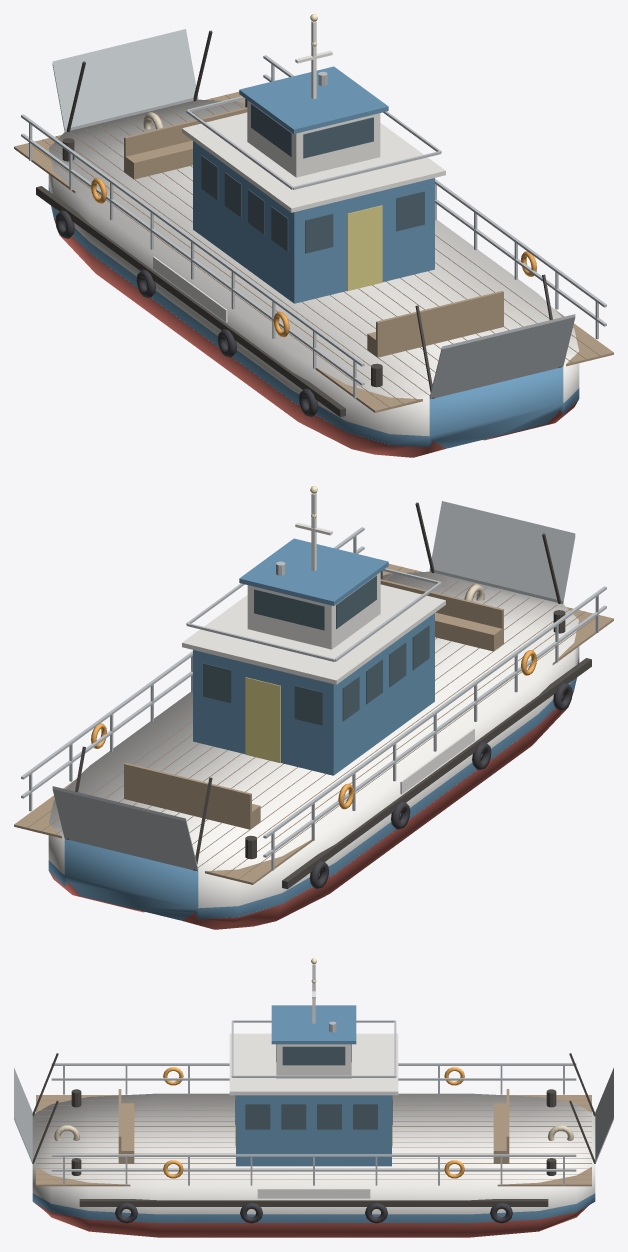
The model's file is ferry.glb.
The picture shows the model from 3 angles, top to bottom: view 1: azimuth 30°, elevation 25°; view 2: azimuth 150°, elevation 25°; view 3: azimuth 270°, elevation 25°; orthographic projection. The views are drawn at different scales.
Visible parts, largest first — view 1: fy_ferry_mesh; view 2: fy_ferry_mesh; view 3: fy_ferry_mesh.
Boxes of the visible parts, x1=… form: fy_ferry_mesh: x1=14, y1=14, x2=613, y2=457; fy_ferry_mesh: x1=14, y1=486, x2=613, y2=929; fy_ferry_mesh: x1=14, y1=958, x2=613, y2=1237.
Size of the model in its own units: 7.43 by 8.6 by 19.2.
